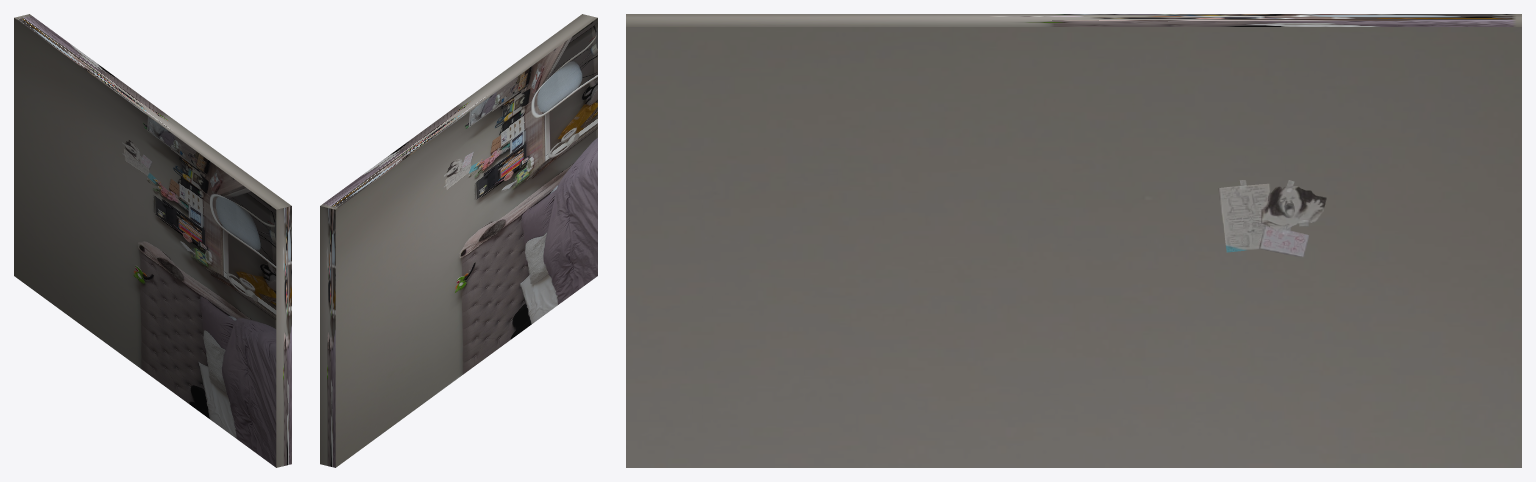
Rendered from WestWall.glb.
3 views of the same model, side by side, from view 1: azimuth 30°, elevation 25°; view 2: azimuth 150°, elevation 25°; view 3: azimuth 270°, elevation 25° (orthographic). The views are drawn at different scales.
Parts seen in each view (by area): view 1: Cube; view 2: Cube; view 3: Cube.
Boxes of the visible parts, x1,y1,x2,y2 form: Cube: (14,14,291,467); Cube: (320,14,597,467); Cube: (626,14,1521,467).
Bounding box in the file's own units: 5.59 × 79.7 × 147.
1 material, 1 textured.
